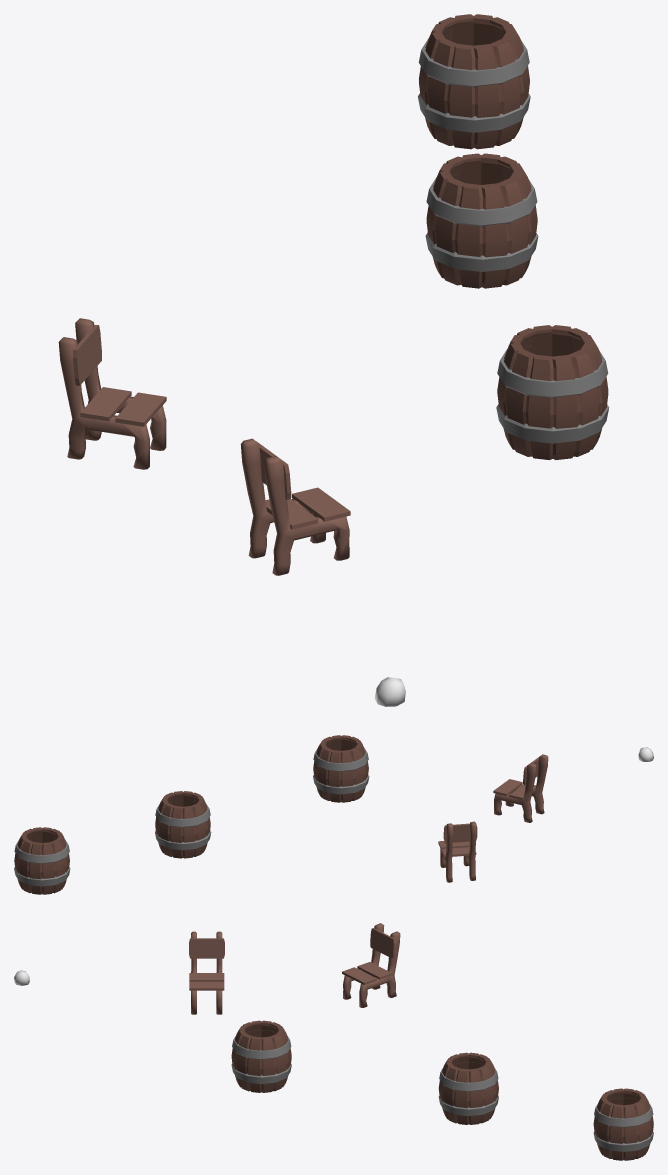
File: level_cave_testing.glb
The picture shows the model from 3 angles, top to bottom: view 1: azimuth 30°, elevation 25°; view 2: azimuth 150°, elevation 25°; view 3: azimuth 270°, elevation 25°; orthographic projection. The views are drawn at different scales.
Parts seen in each view (by area): view 1: BarrelOpen (×3), ChairLeg (×2), ChairLeg.001 (×2), ChairSeatFront (×2), ChairBack, ChairSeatBack; view 2: BarrelOpen (×3), ChairLeg.001 (×2), ChairLeg (×2), ChairBack, ChairSeatFront; view 3: BarrelOpen (×3), ChairBack (×2), ChairLeg.001, ChairLeg, ChairSeatFront.
Part boxes in pixels (left/top/right/bottom): BarrelOpen (×3): left=418, top=14, right=609, bottom=459; ChairLeg (×2): left=58, top=337, right=349, bottom=575; ChairLeg.001 (×2): left=75, top=318, right=325, bottom=558; ChairSeatFront (×2): left=115, top=392, right=350, bottom=521; ChairBack: left=73, top=325, right=101, bottom=385; ChairSeatBack: left=80, top=387, right=131, bottom=421; BarrelOpen (×3): left=14, top=735, right=369, bottom=894; ChairLeg.001 (×2): left=440, top=763, right=536, bottom=882; ChairLeg (×2): left=463, top=754, right=548, bottom=880; ChairBack: left=443, top=823, right=477, bottom=843; ChairSeatFront: left=493, top=779, right=522, bottom=795; BarrelOpen (×3): left=231, top=1020, right=653, bottom=1160; ChairBack (×2): left=189, top=928, right=395, bottom=958; ChairLeg.001: left=359, top=931, right=400, bottom=1007; ChairLeg: left=343, top=923, right=384, bottom=999; ChairSeatFront: left=189, top=981, right=224, bottom=990.
Size of what is drawn, in the model's own units: 12.46 by 1.96 by 18.23.
